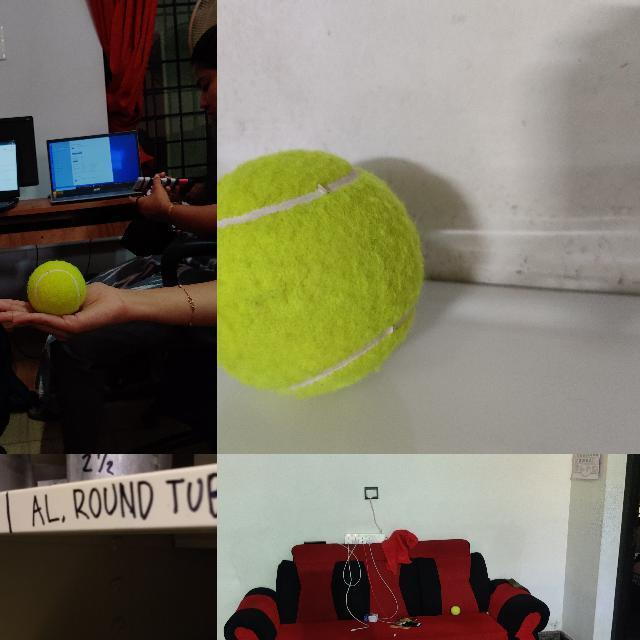tennis-ball: (217, 147, 429, 400), (27, 260, 84, 312), (450, 606, 460, 614)
